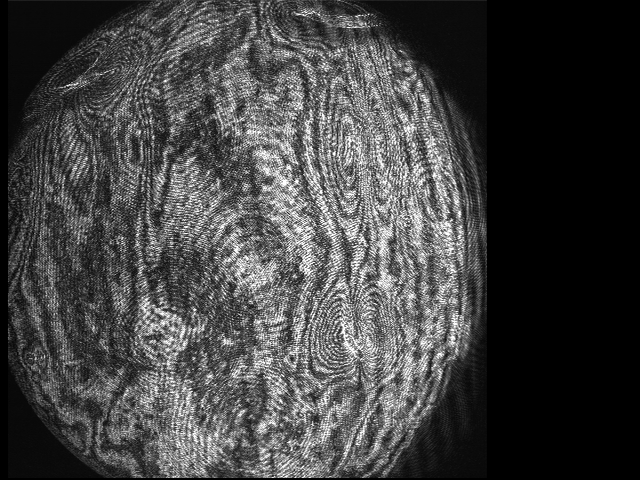plume: (307, 289, 393, 388)
